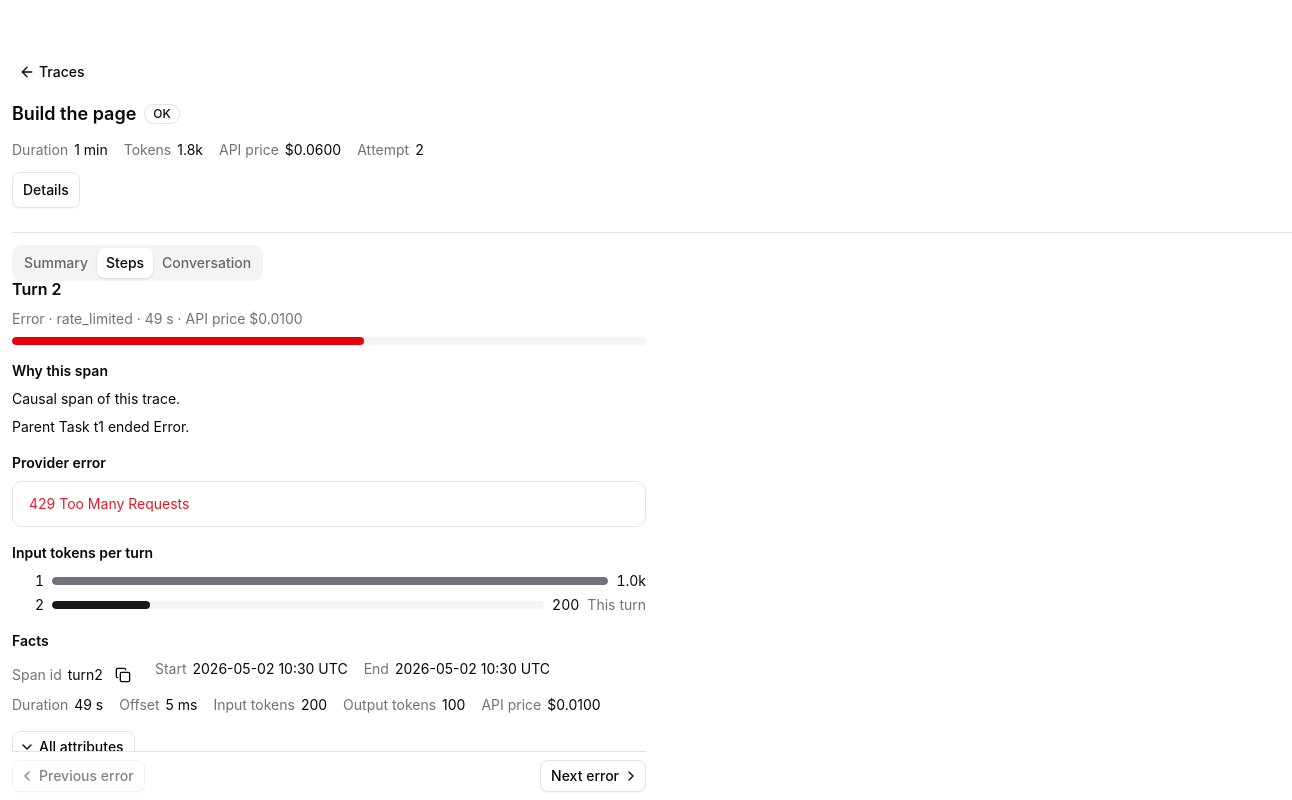
Scenario: TraceScreen span detail › steps through the errors in the stacked level
The image size is (1292, 800).
Step 1. Click the button "Next error" → (593, 776), box [540,760,646,792]
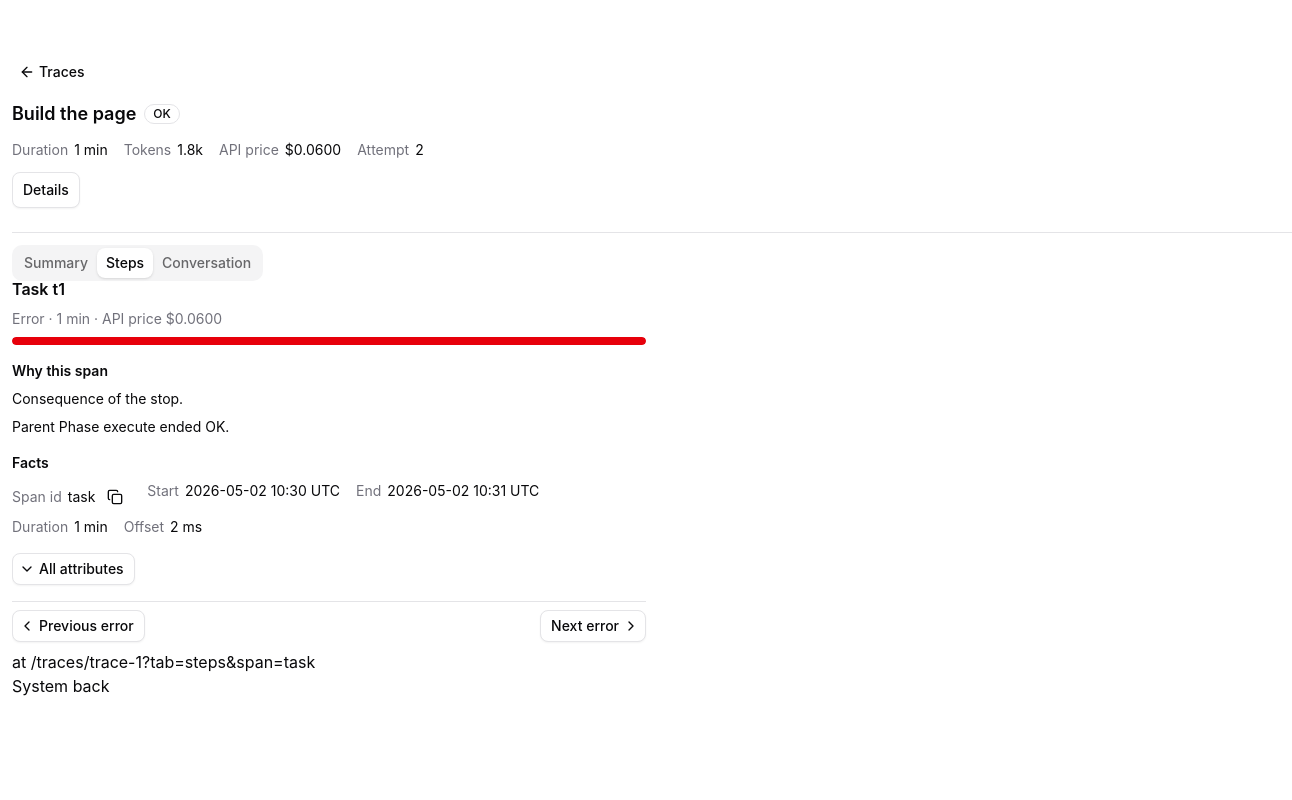
Result: the heading "Task t1" is shown at [12,279,65,299]
Result: the button "Previous error" is enabled at [12,610,145,642]
